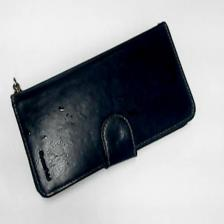phone: (11, 20, 203, 206), (12, 24, 195, 193)
